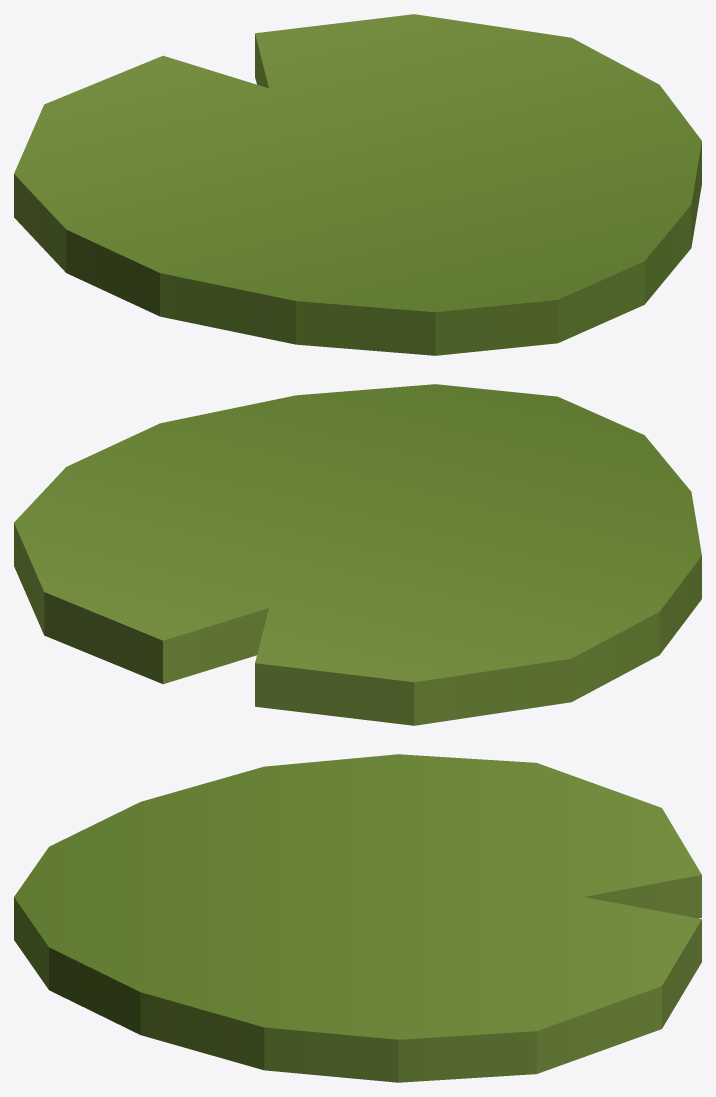
The model's file is PondPlant_01.fbx.
3 views of the same model, one above another, from view 1: azimuth 30°, elevation 25°; view 2: azimuth 150°, elevation 25°; view 3: azimuth 270°, elevation 25° (orthographic).
Visible parts, largest first — view 1: PondPlant_01_LOD0; view 2: PondPlant_01_LOD0; view 3: PondPlant_01_LOD0.
Boxes of the visible parts, x1,y1,x2,y2 form: PondPlant_01_LOD0: (14, 14, 701, 355); PondPlant_01_LOD0: (14, 384, 701, 725); PondPlant_01_LOD0: (14, 754, 701, 1082).
Size of what is drawn, in the model's own units: 0.1874 by 0.0131 by 0.1909.
